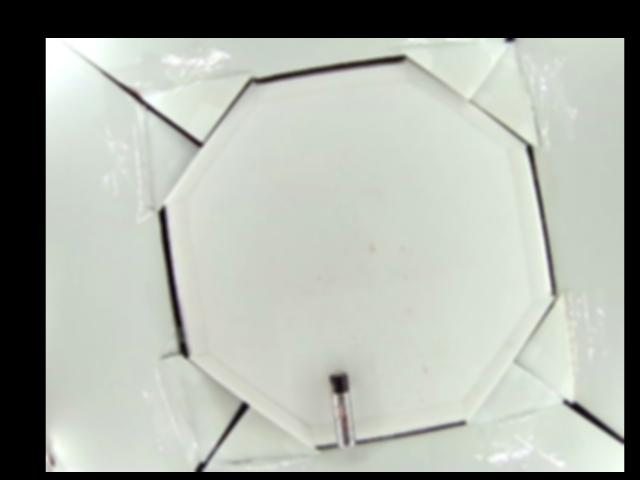Battery: (327, 371, 359, 449)
